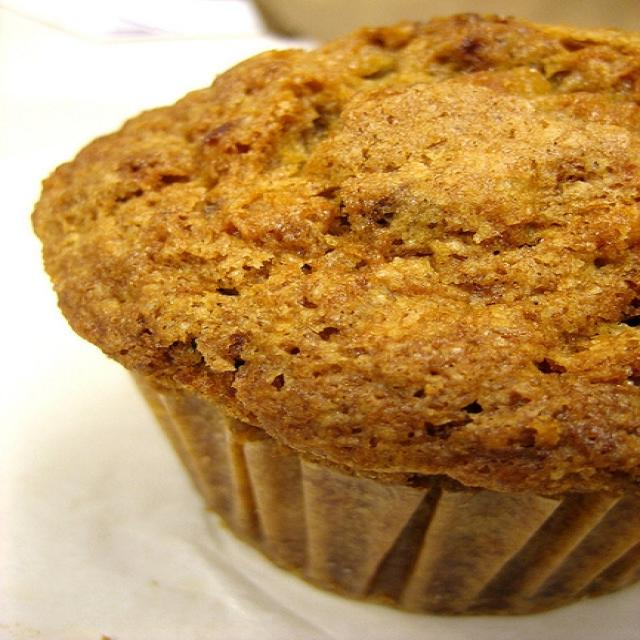炸货点心: (20, 18, 636, 608)
面包点心: (20, 18, 636, 608)
